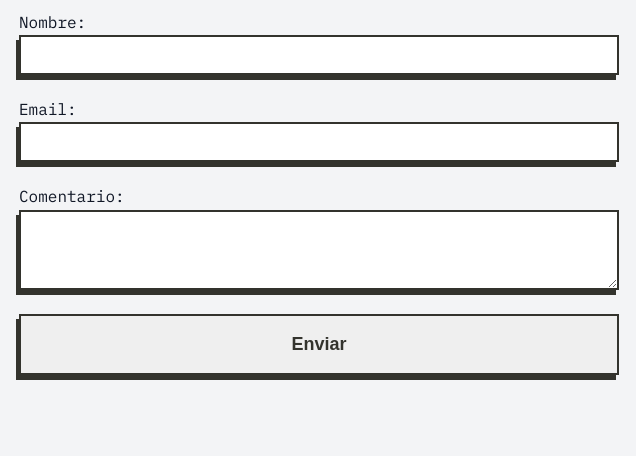
it: Form.vue › debe mostrar el mensaje de error cuando los campos están vacíos
This screenshot has width=636, height=456.
Click the button "Enviar".
click(319, 344)  # box [19,314,619,375]
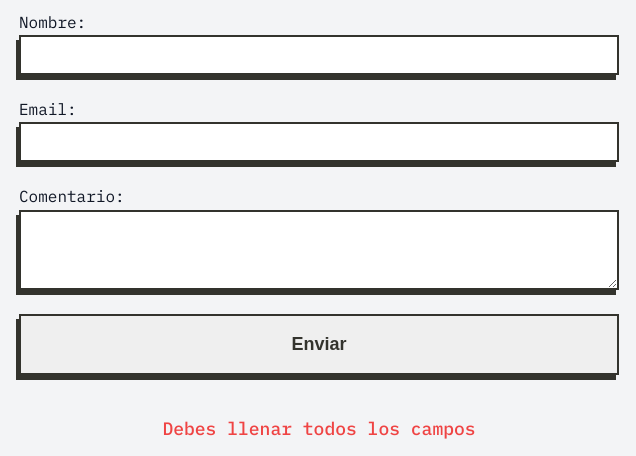
Expected: the text "Debes llenar todos los campos" is shown, [162,417,476,440]
